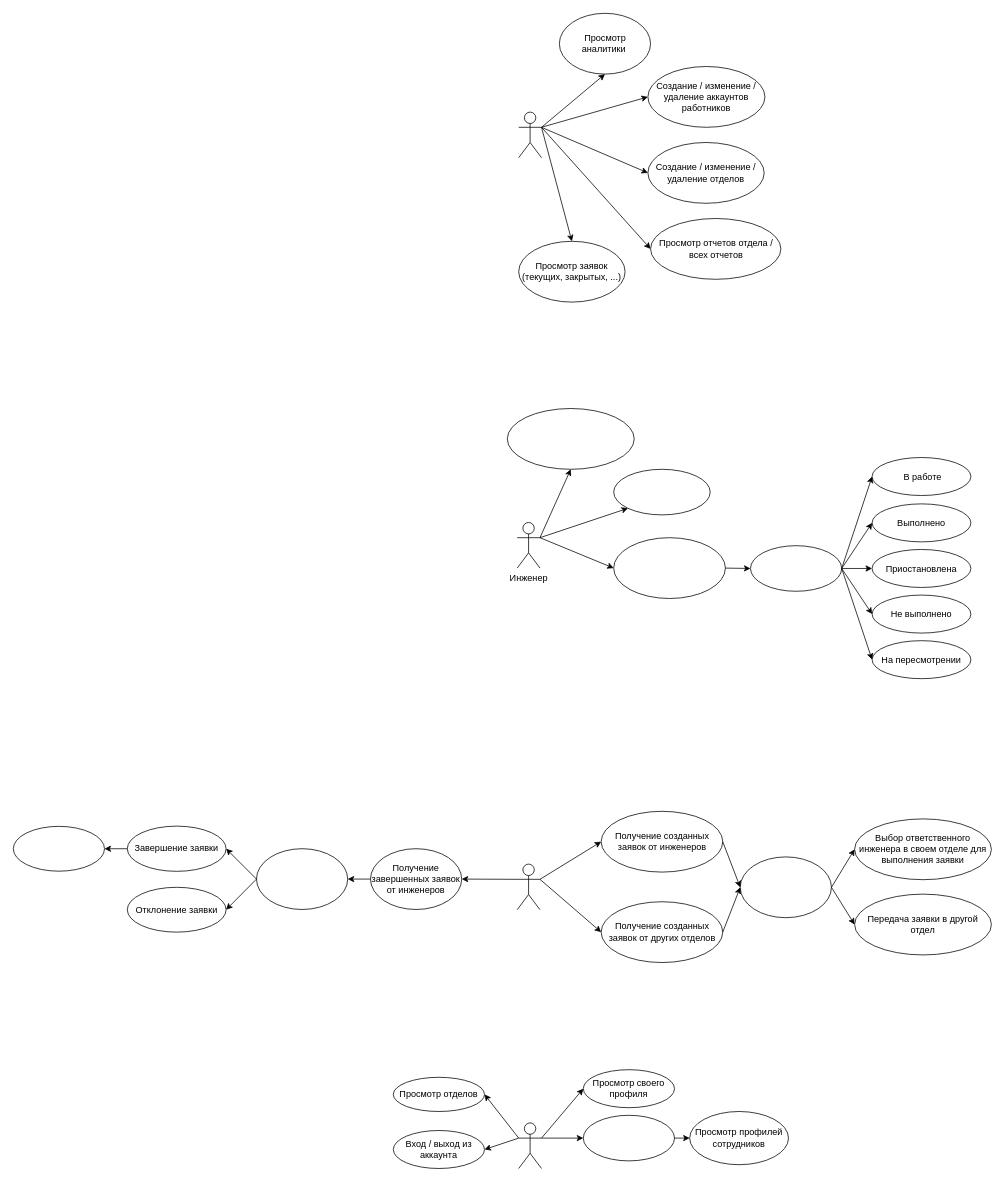
Some shapes in this 1005 by 1198 pixel diagram are drawn without their labels. Each missing label, with the centre of its shape:
"Анализ категории заявки" goes at pixel 785 887.
"Анализ требований и результата" goes at pixel 302 878.
"Выполнение заявок" goes at pixel 669 567.
"Изменение статуса заявки" goes at pixel 796 568.
"Менеджер" goes at pixel 528 886.
"Пользователь" goes at pixel 530 1145.
"Просмотр / изменение / удаление созданных заявок" goes at pixel 570 438.
"Просмотр списка сотрудников" goes at pixel 628 1138.
"Руководитель" goes at pixel 530 134.
"Создание заявок" goes at pixel 661 492.
"Формирование отчета по заявке" goes at pixel 58 848.
